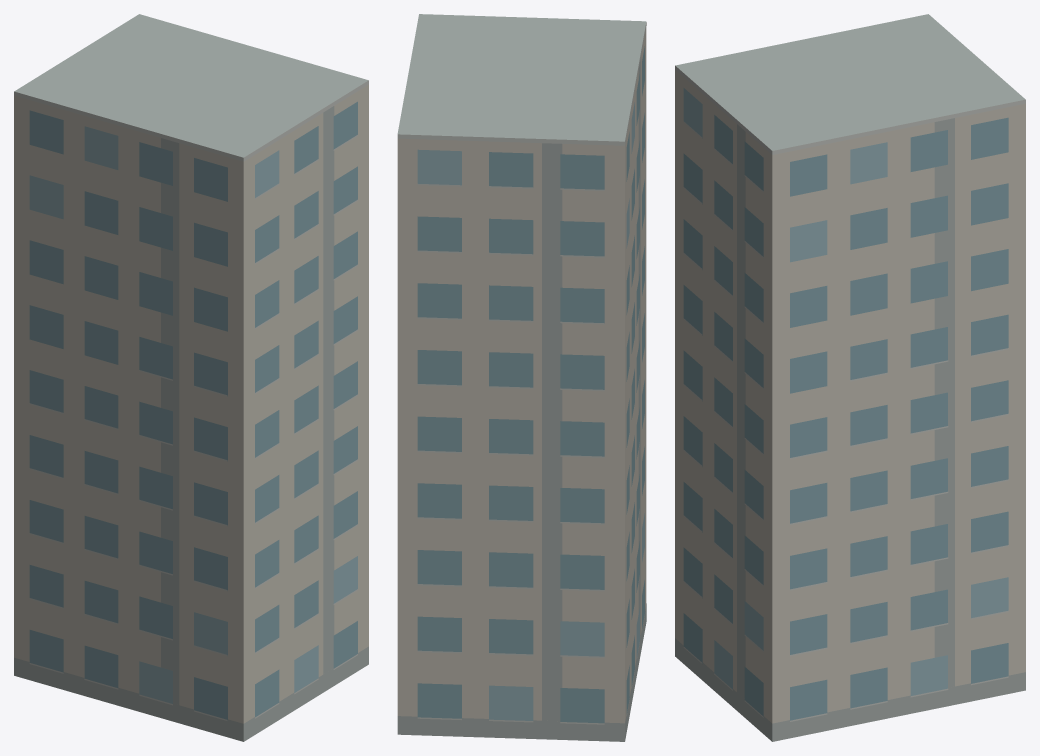
The model's file is residential-2de24612-6763-49b0-ad55-54533dc10275.glb.
3 renders of one model, left to right at view 1: azimuth 30°, elevation 25°; view 2: azimuth 150°, elevation 25°; view 3: azimuth 270°, elevation 25°, orthographic. The views are drawn at different scales.
Parts seen in each view (by area): view 1: residential-2de24612-6763-49b0-ad55-54533dc10275.tmp; view 2: residential-2de24612-6763-49b0-ad55-54533dc10275.tmp; view 3: residential-2de24612-6763-49b0-ad55-54533dc10275.tmp.
Part boxes in pixels (left/top/right/bottom): residential-2de24612-6763-49b0-ad55-54533dc10275.tmp: left=14, top=14, right=368, bottom=741; residential-2de24612-6763-49b0-ad55-54533dc10275.tmp: left=397, top=14, right=646, bottom=741; residential-2de24612-6763-49b0-ad55-54533dc10275.tmp: left=675, top=14, right=1025, bottom=741.
Bounding box in the file's own units: 17.41 × 35 × 18.83.
